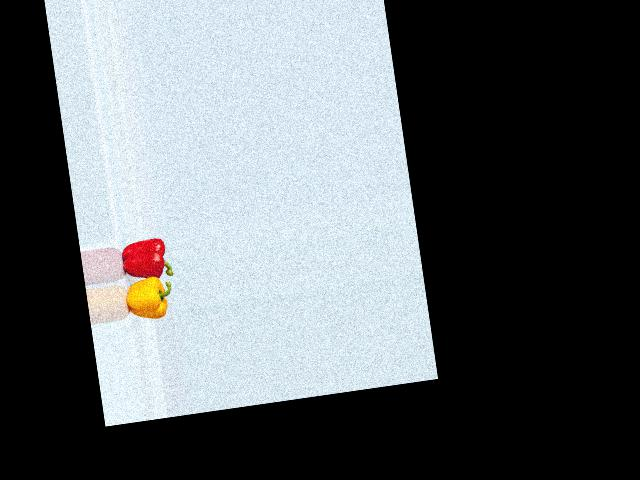bell_pepper: (114, 232, 172, 284)
